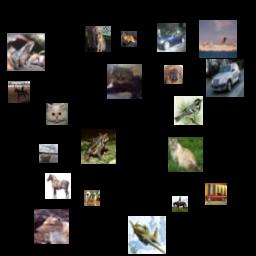airplane: (128, 216, 166, 254)
automobile: (206, 59, 244, 97), (157, 23, 186, 52), (205, 183, 227, 205)
bird: (174, 96, 203, 125)
cat: (107, 64, 142, 99), (168, 137, 203, 172), (46, 103, 68, 125), (121, 31, 137, 47)
deer: (34, 209, 69, 244)
dog: (85, 26, 111, 52), (164, 65, 183, 84), (84, 190, 100, 206)
frog: (7, 33, 45, 71), (81, 129, 116, 164)
ship: (199, 20, 237, 58), (39, 144, 58, 163)
